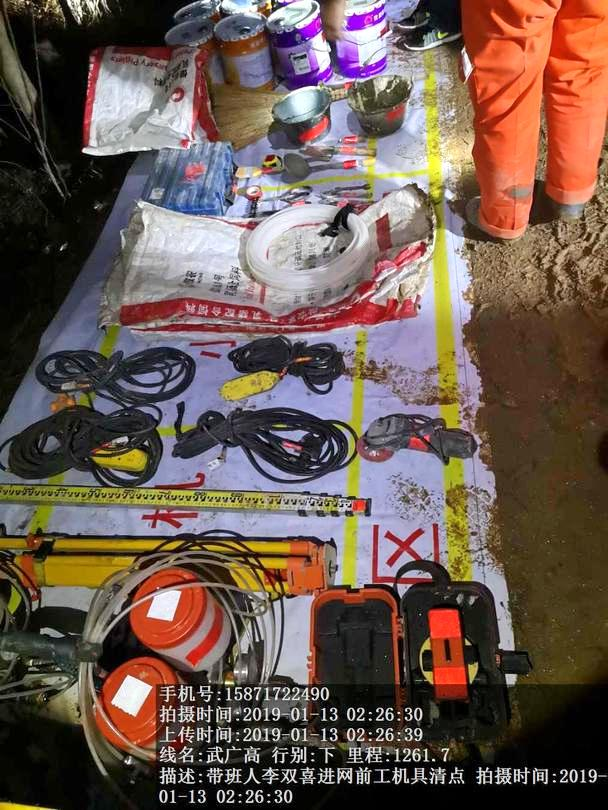BZD: (118, 194, 450, 327)
DMJ: (356, 404, 480, 474)
DX: (169, 400, 347, 493), (3, 402, 167, 490), (34, 326, 191, 401)
SG: (244, 205, 371, 281)
SNT: (346, 76, 425, 132)
W: (263, 82, 334, 141)
